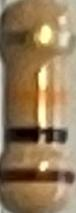Black: (6, 126, 70, 144)
Brown: (0, 171, 75, 186)
Orange: (7, 91, 74, 107)
Side-Gold: (4, 31, 74, 50)
